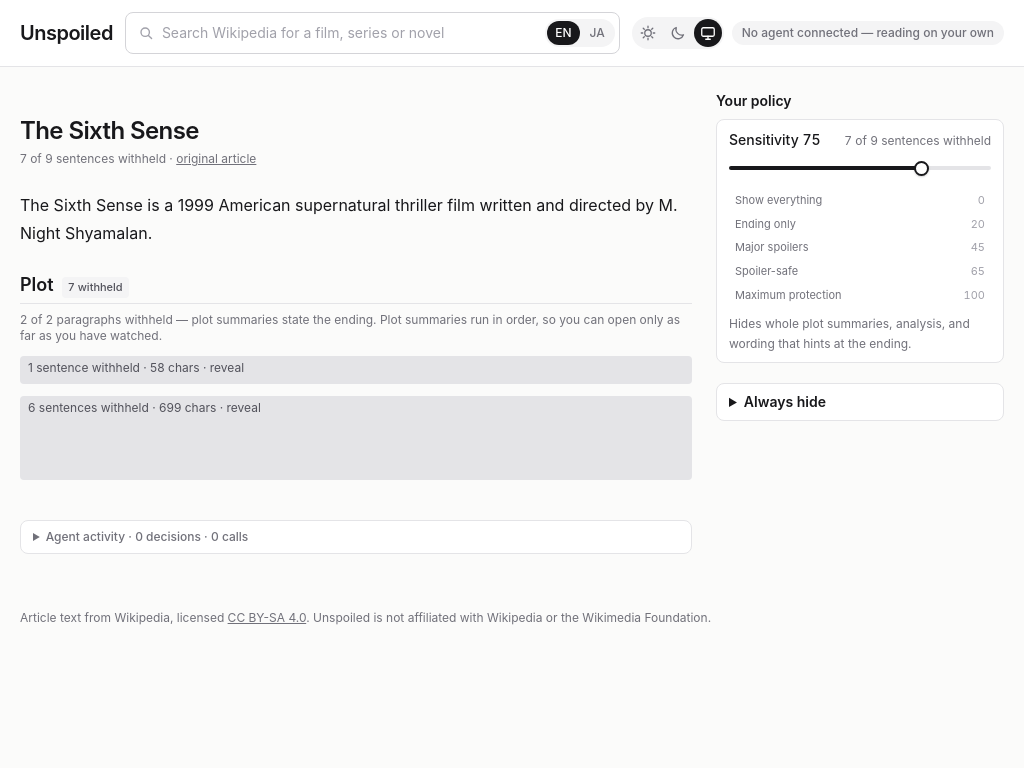
Test: a section the reader has opened part of › keeps the note above the section, counting down as the reader opens paragraphs
Expected: the heading "The Sixth Sense" is shown, [20,116,199,145]
Click the button "1 sentence withheld · 58 chars · reveal" at (84, 368), box [20,356,692,384]
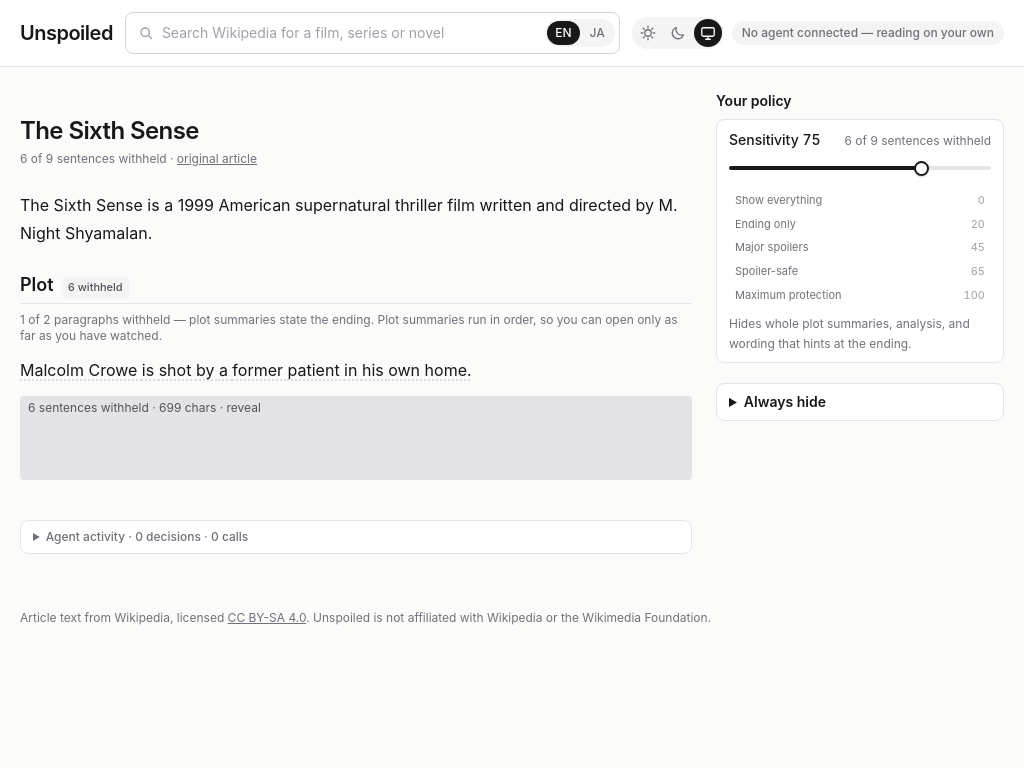
Expected: the text "paragraphs withheld —" shows "1 of 2 paragraphs withheld", [20,312,692,344]
